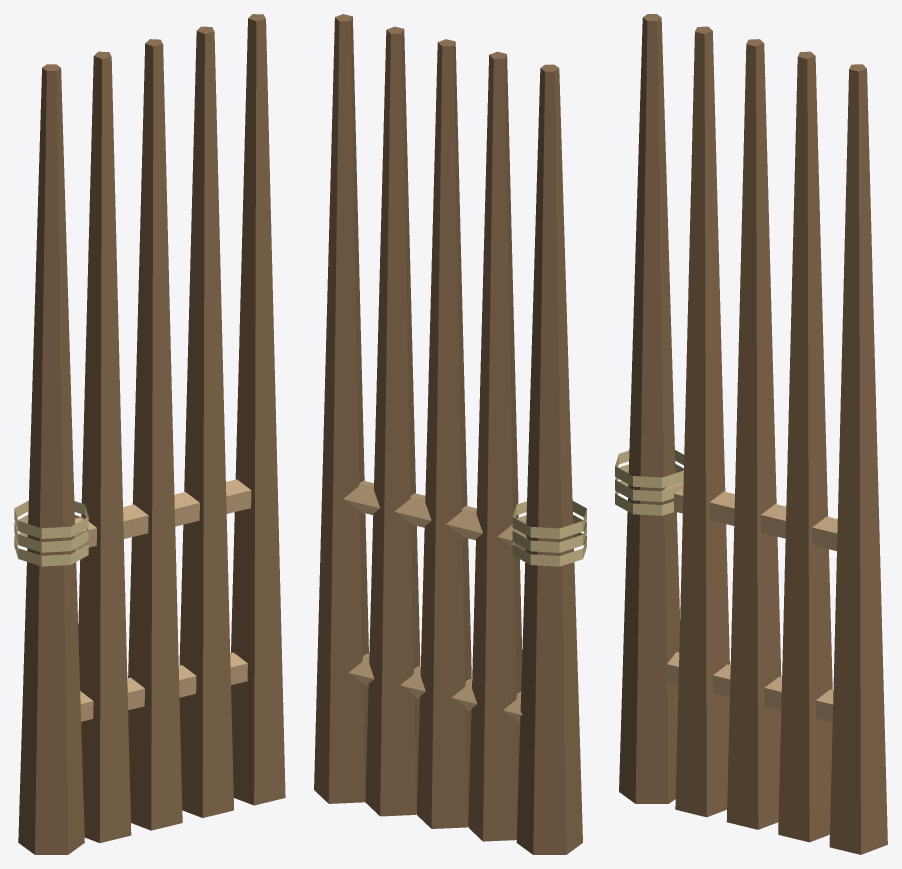
The model's file is palisade_02.glb.
3 renders of one model, left to right at view 1: azimuth 30°, elevation 25°; view 2: azimuth 150°, elevation 25°; view 3: azimuth 330°, elevation 25°, orthographic.
Parts seen in each view (by area): view 1: palisade_02; view 2: palisade_02; view 3: palisade_02.
Boxes of the visible parts, box(x1,y1,x2,y2) form: palisade_02: box(14, 14, 285, 854); palisade_02: box(314, 14, 586, 854); palisade_02: box(615, 14, 887, 854).
Size of the model in its own units: 0.6428 by 1.8 by 0.162.
